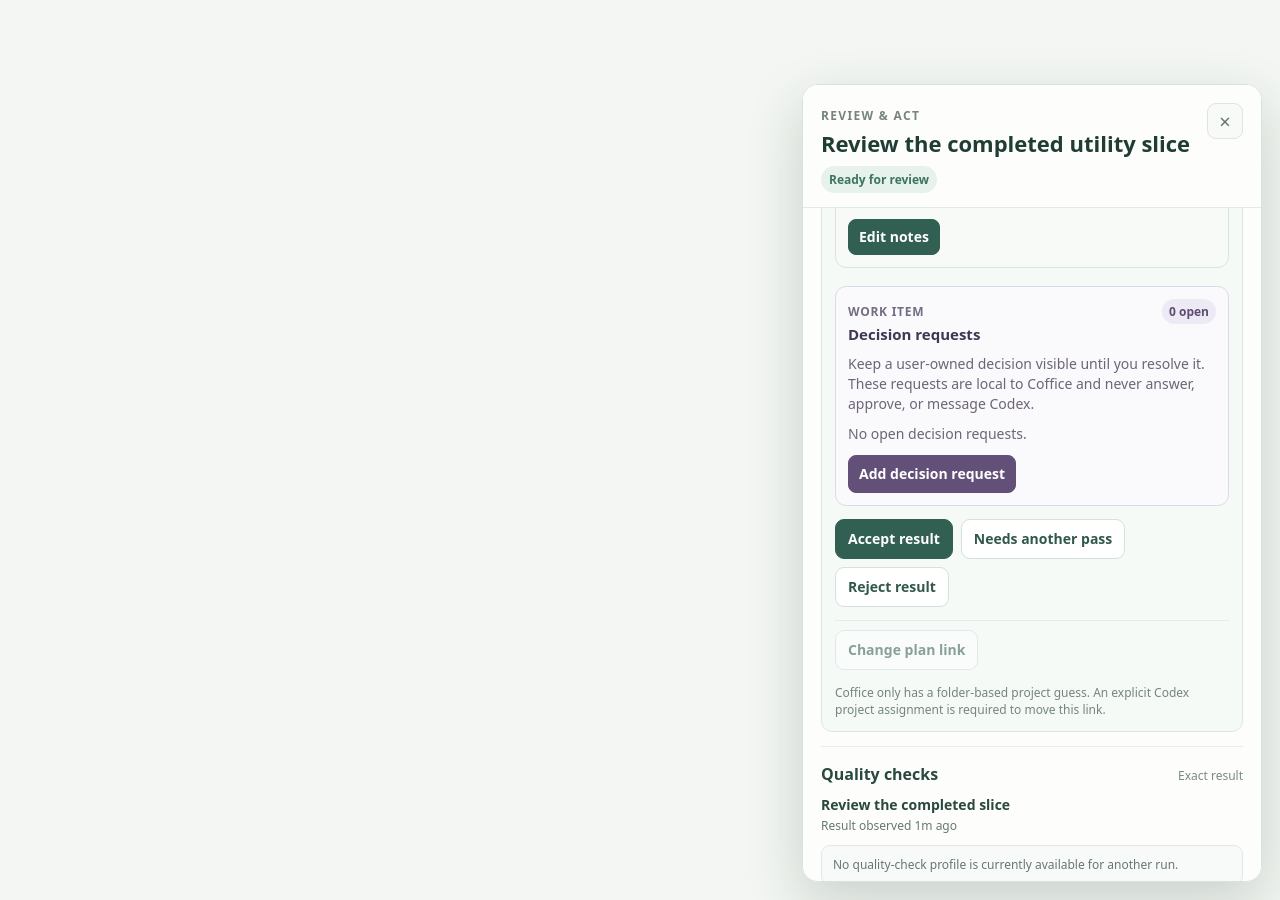
Test: Review & Act dialog interaction › records review before accepting a linked result
(page scrolled)
Click the button "Accept result" at (894, 539), box [835,519,953,559]
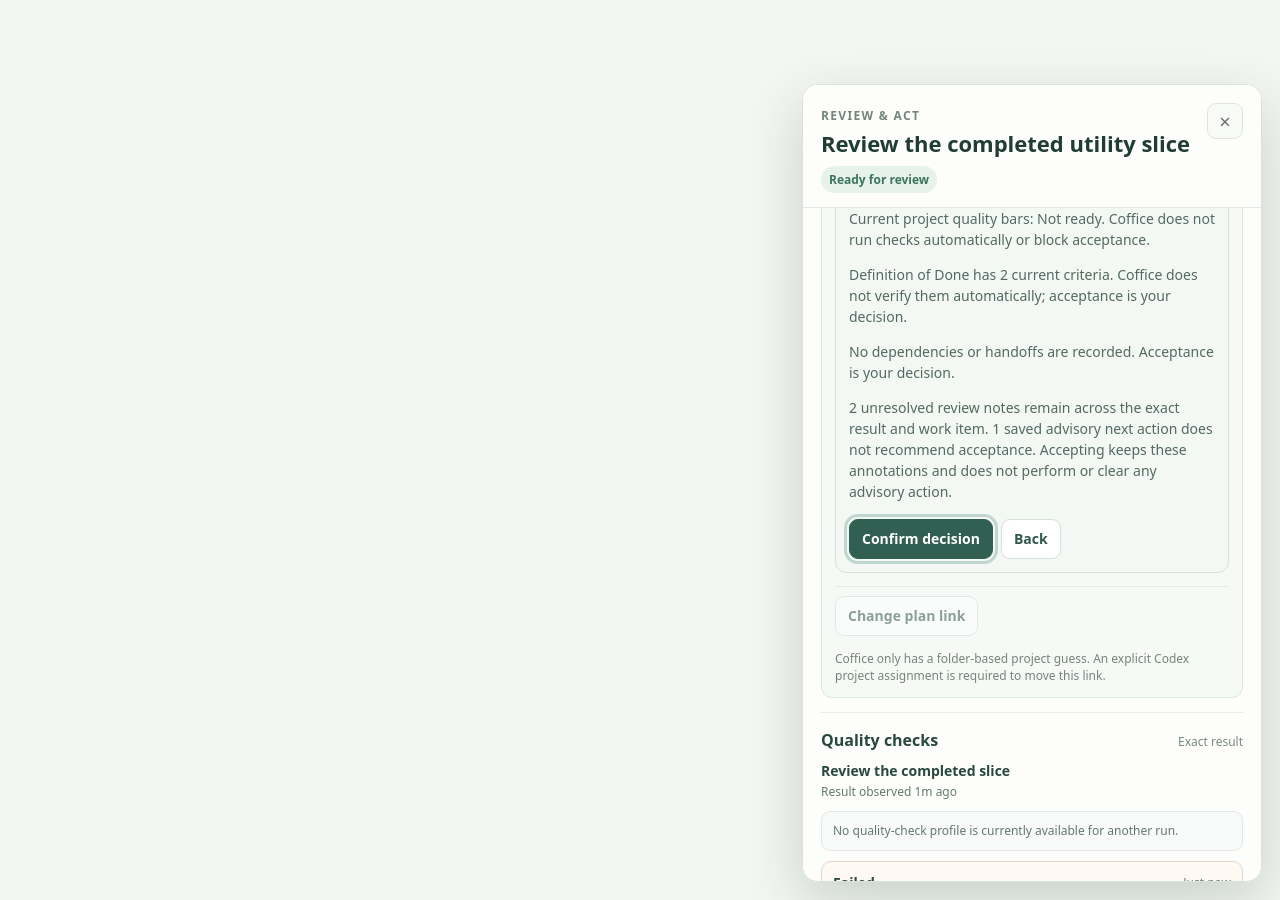
Check: the text "2 unresolved review notes remain across the exact result and work item." is shown, box [849,398,1183,438]
Check: the text "1 saved advisory next action does not recommend acceptance." is shown, box [849,419,1216,459]
Check: the text "Accepting keeps these annotations and does not perform or clear any advisory action." is shown, box [849,440,1190,501]
Click the button "Confirm decision" at (921, 539), box [849,519,993,559]
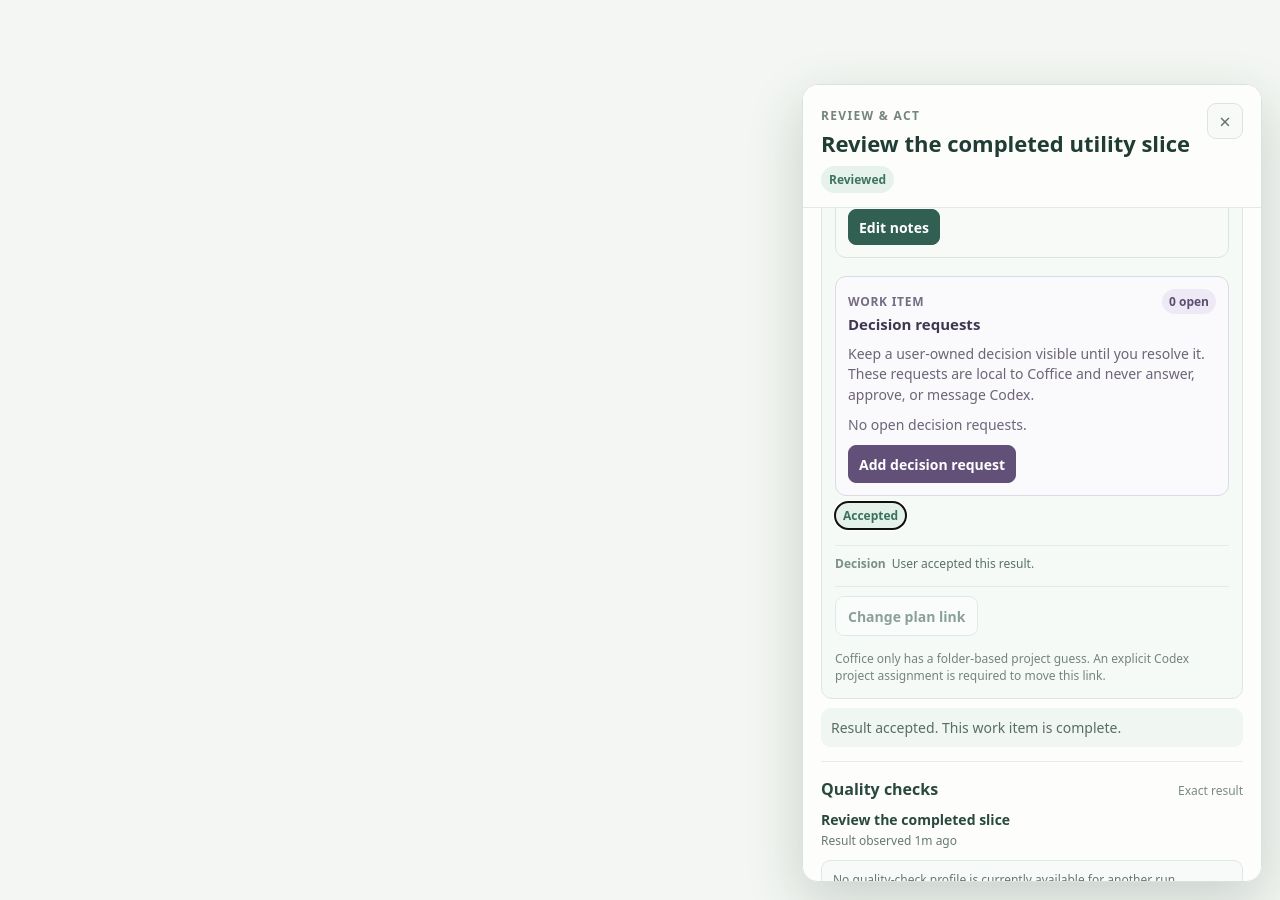
Check: the message "accepted" is shown, box [835,502,906,529]
